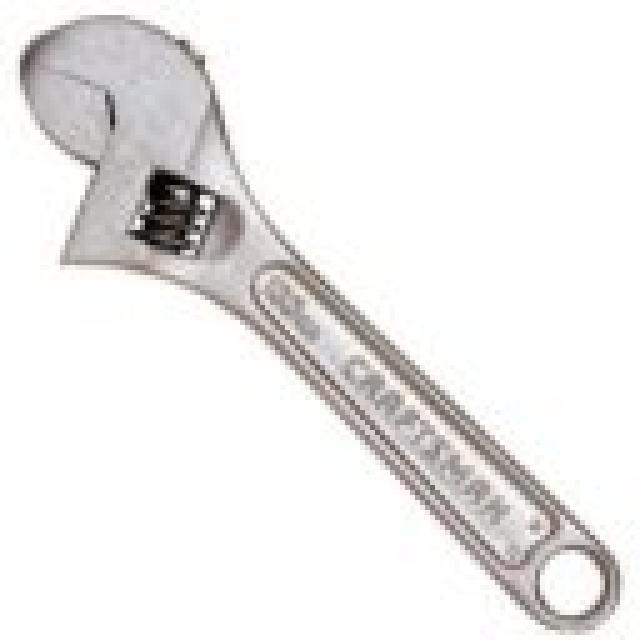wrench: (19, 6, 627, 634)
